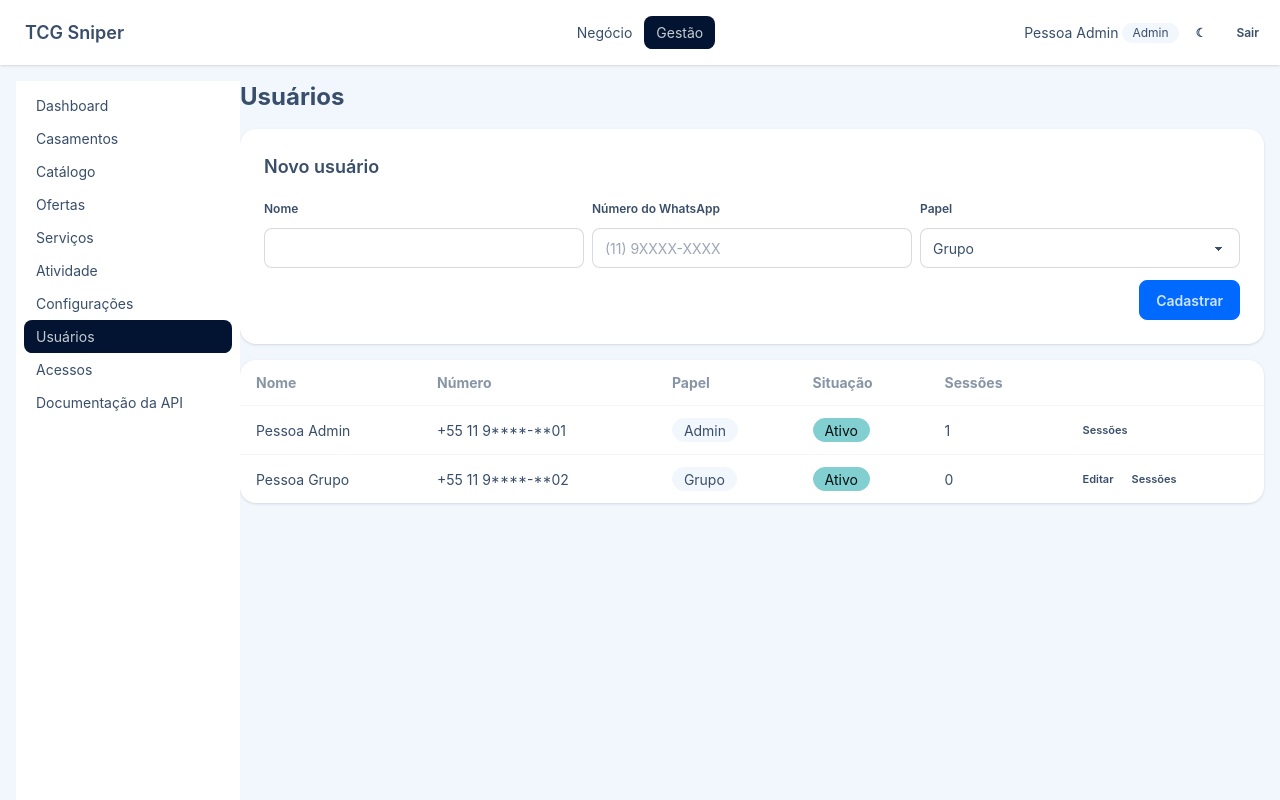
Gestão → Usuários › sessões: lista e encerra
Expected: the table is shown, [240, 360, 1264, 503]
Step 1. Click the button "Sessões" in the row of "Pessoa Grupo" → (1154, 479), box [1122, 467, 1186, 491]
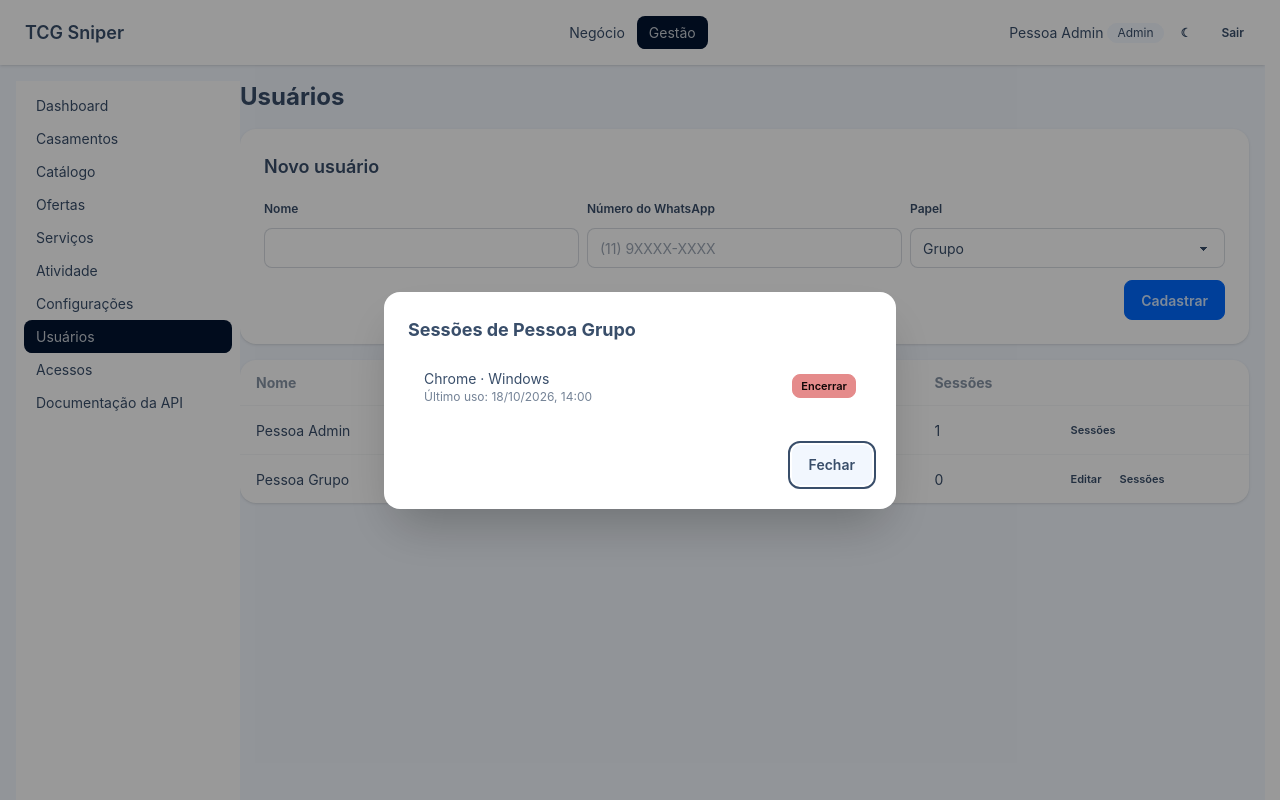
Now the text "Chrome · Windows" is shown, box [424, 370, 549, 386]
Step 2. Click the button "Encerrar" → (824, 386), box [792, 374, 856, 398]
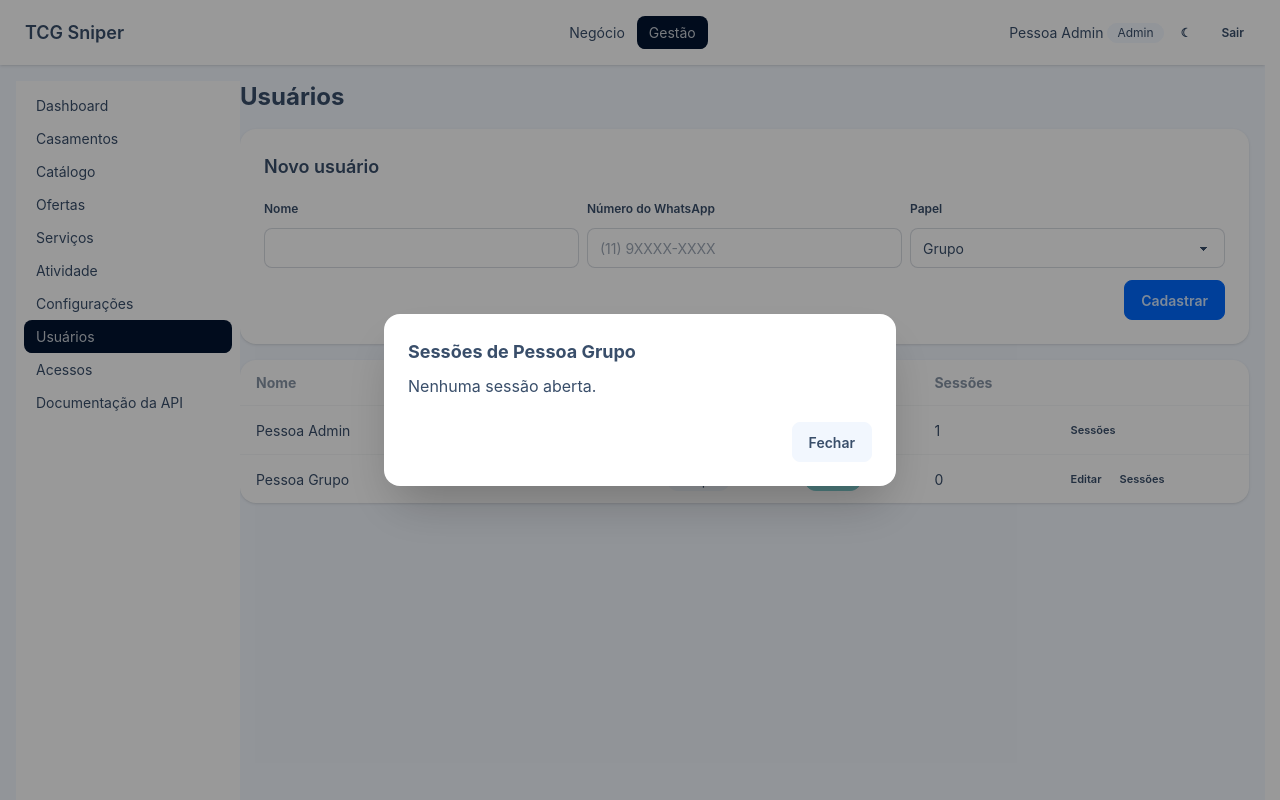
Now the text "Nenhuma sessão aberta." is shown, box [408, 376, 596, 396]
